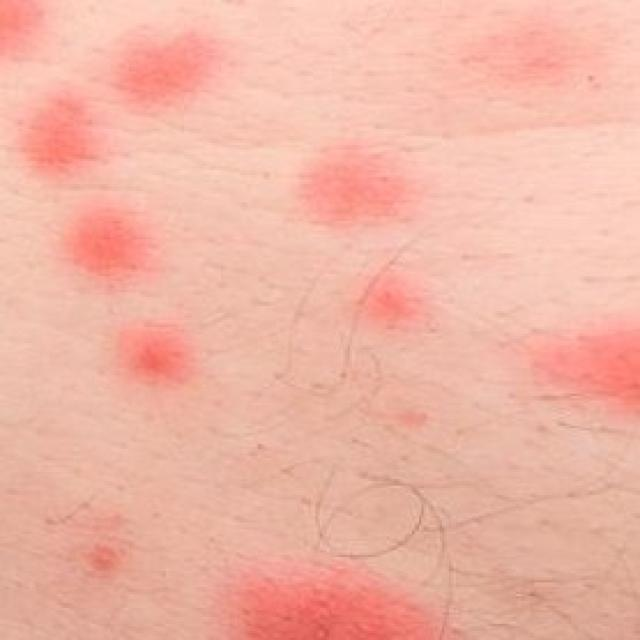kene: (1, 7, 640, 640)
